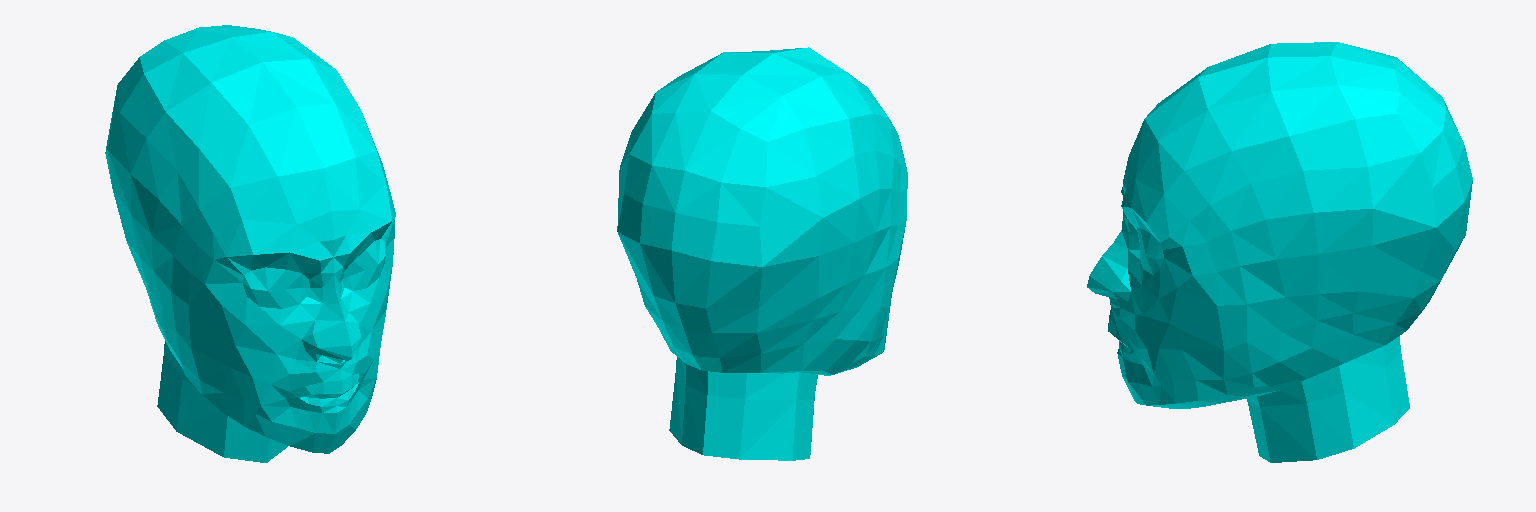
File: player_hed.obj
3 renders of one model, left to right at view 1: azimuth 30°, elevation 25°; view 2: azimuth 150°, elevation 25°; view 3: azimuth 270°, elevation 25°, orthographic.
Parts seen in each view (by area): view 1: player_hed:DummyMesh group8, group8 player_hed:DummyMeshpolySurface8; view 2: player_hed:DummyMesh group8, group8 player_hed:DummyMeshpolySurface8; view 3: player_hed:DummyMesh group8, group8 player_hed:DummyMeshpolySurface8.
Part boxes in pixels (x1,y1,x2,y2): player_hed:DummyMesh group8: (105,25,395,453); group8 player_hed:DummyMeshpolySurface8: (157,341,287,462); player_hed:DummyMesh group8: (617,47,907,375); group8 player_hed:DummyMeshpolySurface8: (669,357,817,460); player_hed:DummyMesh group8: (1087,42,1472,408); group8 player_hed:DummyMeshpolySurface8: (1247,336,1409,462).
Bounding box in the file's own units: 0.1913 × 0.3363 × 0.2947.